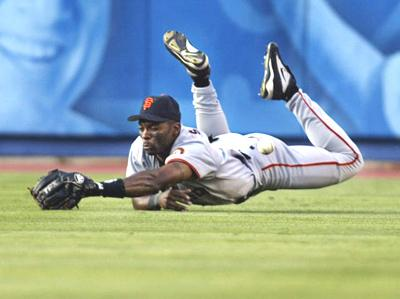fall: (12, 15, 388, 215)
